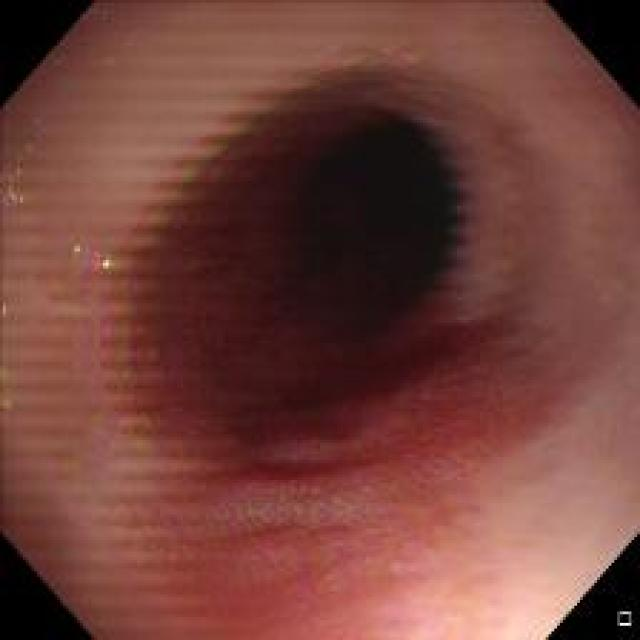color misalignment: (100, 288, 134, 388), (424, 119, 468, 179), (446, 184, 476, 270), (66, 238, 115, 281), (209, 120, 252, 164), (1, 154, 30, 211), (329, 44, 372, 79), (22, 106, 49, 158), (270, 76, 324, 100), (182, 159, 220, 192), (384, 38, 420, 72), (165, 191, 200, 221), (81, 5, 110, 29), (145, 210, 169, 238), (29, 61, 54, 82), (0, 392, 15, 420), (0, 302, 9, 318)
contrast: (224, 60, 506, 420)
